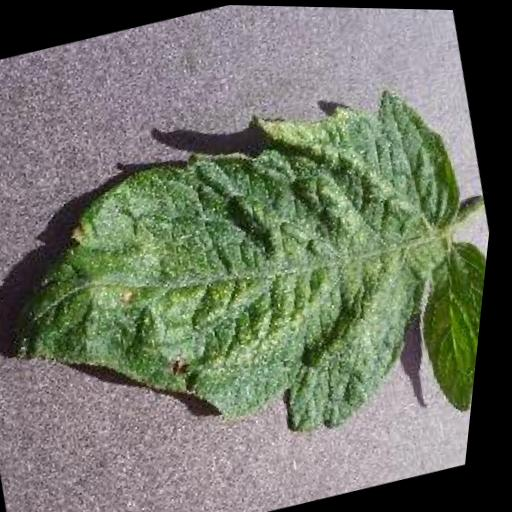Spider Mites: (0, 56, 507, 512)
